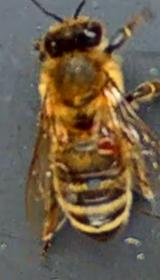varroa_mite: (86, 133, 130, 168)
